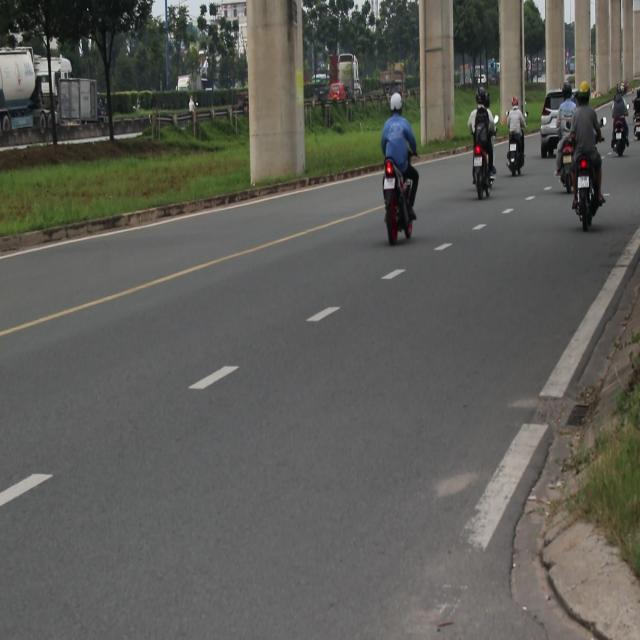car: (540, 91, 575, 158)
motorbike: (379, 147, 424, 249), (567, 144, 603, 231), (556, 136, 578, 195), (469, 148, 497, 190), (610, 112, 631, 158), (507, 131, 525, 177)
truck: (55, 77, 117, 158), (328, 53, 363, 103)
